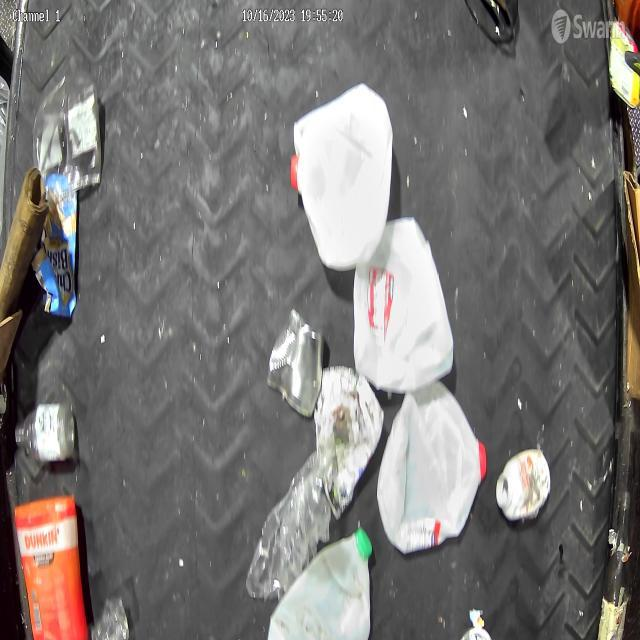can: (268, 296, 324, 422), (496, 442, 558, 528)
milk_jug: (288, 75, 394, 268), (376, 381, 486, 562), (347, 210, 455, 394), (270, 522, 382, 640)
non_white_jug: (11, 487, 90, 640)
plastic_bottle: (246, 444, 334, 596)
